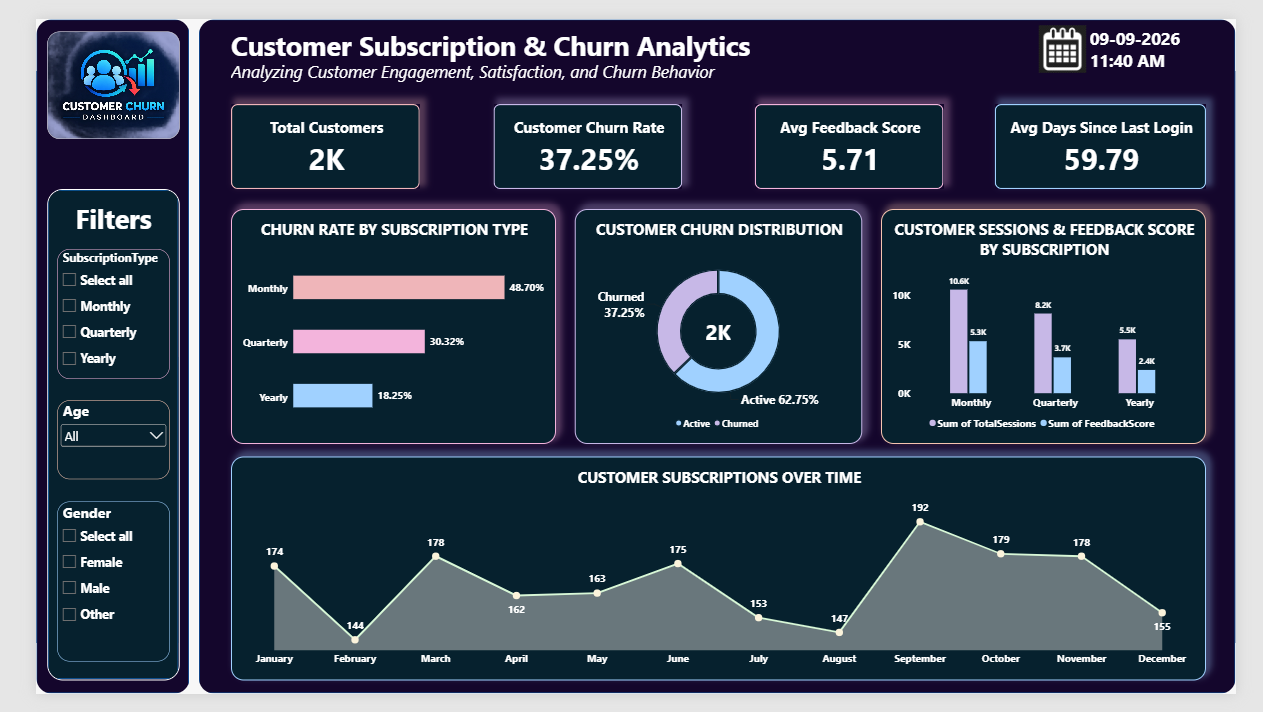

Layout of this report page (visuals, bound fields, positions):
{"tool":"powerbi","page":{"name":"Page 1","canvas":[1920,1080],"ordinal":0},"visuals":[{"type":"shape","box":[0,0,246,1080],"z":0},{"type":"shape","box":[260,0,1660,1080],"z":1000},{"type":"cardVisual","fields":{"Data":["All_Measures.Total Customers"]},"box":[312,136,302,136],"z":2000},{"type":"cardVisual","fields":{"Data":["All_Measures.% Churned"]},"box":[731.3,136,302,136],"z":3000},{"type":"cardVisual","fields":{"Data":["All_Measures.Avg Feedback Score"]},"box":[1150.7,136,302,136],"z":4000},{"type":"cardVisual","fields":{"Data":["All_Measures.Avg Days Since Last Login"]},"box":[1534,136,338,136],"z":5000},{"type":"clusteredBarChart","title":"CHURN RATE BY SUBSCRIPTION TYPE","fields":{"Category":["customersubscriptions.SubscriptionType"],"Y":["All_Measures.% Churned"]},"box":[312.1,304.3,520,375.7],"z":6000},{"type":"donutChart","title":"CUSTOMER CHURN DISTRIBUTION","fields":{"Y":["All_Measures.Total Customers"],"Category":["customersubscriptions.Churn Status"]},"box":[861.7,303.3,460,375.7],"z":7000},{"type":"lineChart","title":"CUSTOMER SUBSCRIPTIONS OVER TIME","fields":{"Y":["All_Measures.Total Customers"],"Category":["customersubscriptions.SubscriptionDate.Variation.Date Hierarchy.Year","customersubscriptions.SubscriptionDate.Variation.Date Hierarchy.Quarter","customersubscriptions.SubscriptionDate.Variation.Date Hierarchy.Month","customersubscriptions.SubscriptionDate.Variation.Date Hierarchy.Day"]},"box":[312,700,1560,358],"z":8000},{"type":"clusteredColumnChart","title":"CUSTOMER SESSIONS & FEEDBACK SCORE BY SUBSCRIPTION","fields":{"Y":["Sum(customersubscriptions.TotalSessions)","Sum(customersubscriptions.FeedbackScore)"],"Category":["customersubscriptions.SubscriptionType"]},"box":[1352.1,304.3,520,375.7],"z":9000},{"type":"textbox","box":[312,12,918,60],"z":10000},{"type":"textbox","box":[311.9,66.2,898.1,40],"z":11000},{"type":"image","box":[1598,10,88,76],"z":12000},{"type":"textbox","box":[1686,12,186,94],"z":13000},{"type":"shape","box":[18,272,212,786],"z":14000},{"type":"image","box":[17.3,19.5,212,172],"z":15000},{"type":"slicer","fields":{"Values":["customersubscriptions.SubscriptionType"]},"box":[34,368,180,208],"z":16000},{"type":"slicer","fields":{"Values":["customersubscriptions.Age"]},"box":[34,610,180,126],"z":17000},{"type":"slicer","fields":{"Values":["customersubscriptions.Gender"]},"box":[34,772,180,256],"z":18000},{"type":"textbox","box":[34,290,180,62],"z":19000}]}

Visuals, with their boxes in screenshot pixels (x1, y1, x2, y2), scaled from the page's 1920x1080 canvas onto the 1263x712 screenshot:
shape: box=[0, 0, 162, 711]
shape: box=[171, 0, 1262, 711]
cardVisual - All_Measures.Total Customers: box=[205, 90, 404, 179]
cardVisual - All_Measures.% Churned: box=[481, 90, 680, 179]
cardVisual - All_Measures.Avg Feedback Score: box=[757, 90, 956, 179]
cardVisual - All_Measures.Avg Days Since Last Login: box=[1009, 90, 1231, 179]
"CHURN RATE BY SUBSCRIPTION TYPE" clusteredBarChart: box=[205, 201, 547, 448]
"CUSTOMER CHURN DISTRIBUTION" donutChart: box=[567, 200, 869, 448]
"CUSTOMER SUBSCRIPTIONS OVER TIME" lineChart: box=[205, 461, 1231, 697]
"CUSTOMER SESSIONS & FEEDBACK SCORE BY SUBSCRIPTION" clusteredColumnChart: box=[889, 201, 1231, 448]
textbox: box=[205, 8, 809, 47]
textbox: box=[205, 44, 796, 70]
image: box=[1051, 7, 1109, 57]
textbox: box=[1109, 8, 1231, 70]
shape: box=[12, 179, 151, 697]
image: box=[11, 13, 151, 126]
slicer - customersubscriptions.SubscriptionType: box=[22, 243, 141, 380]
slicer - customersubscriptions.Age: box=[22, 402, 141, 485]
slicer - customersubscriptions.Gender: box=[22, 509, 141, 678]
textbox: box=[22, 191, 141, 232]
